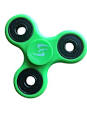fidget_spinner: (1, 6, 84, 108)
